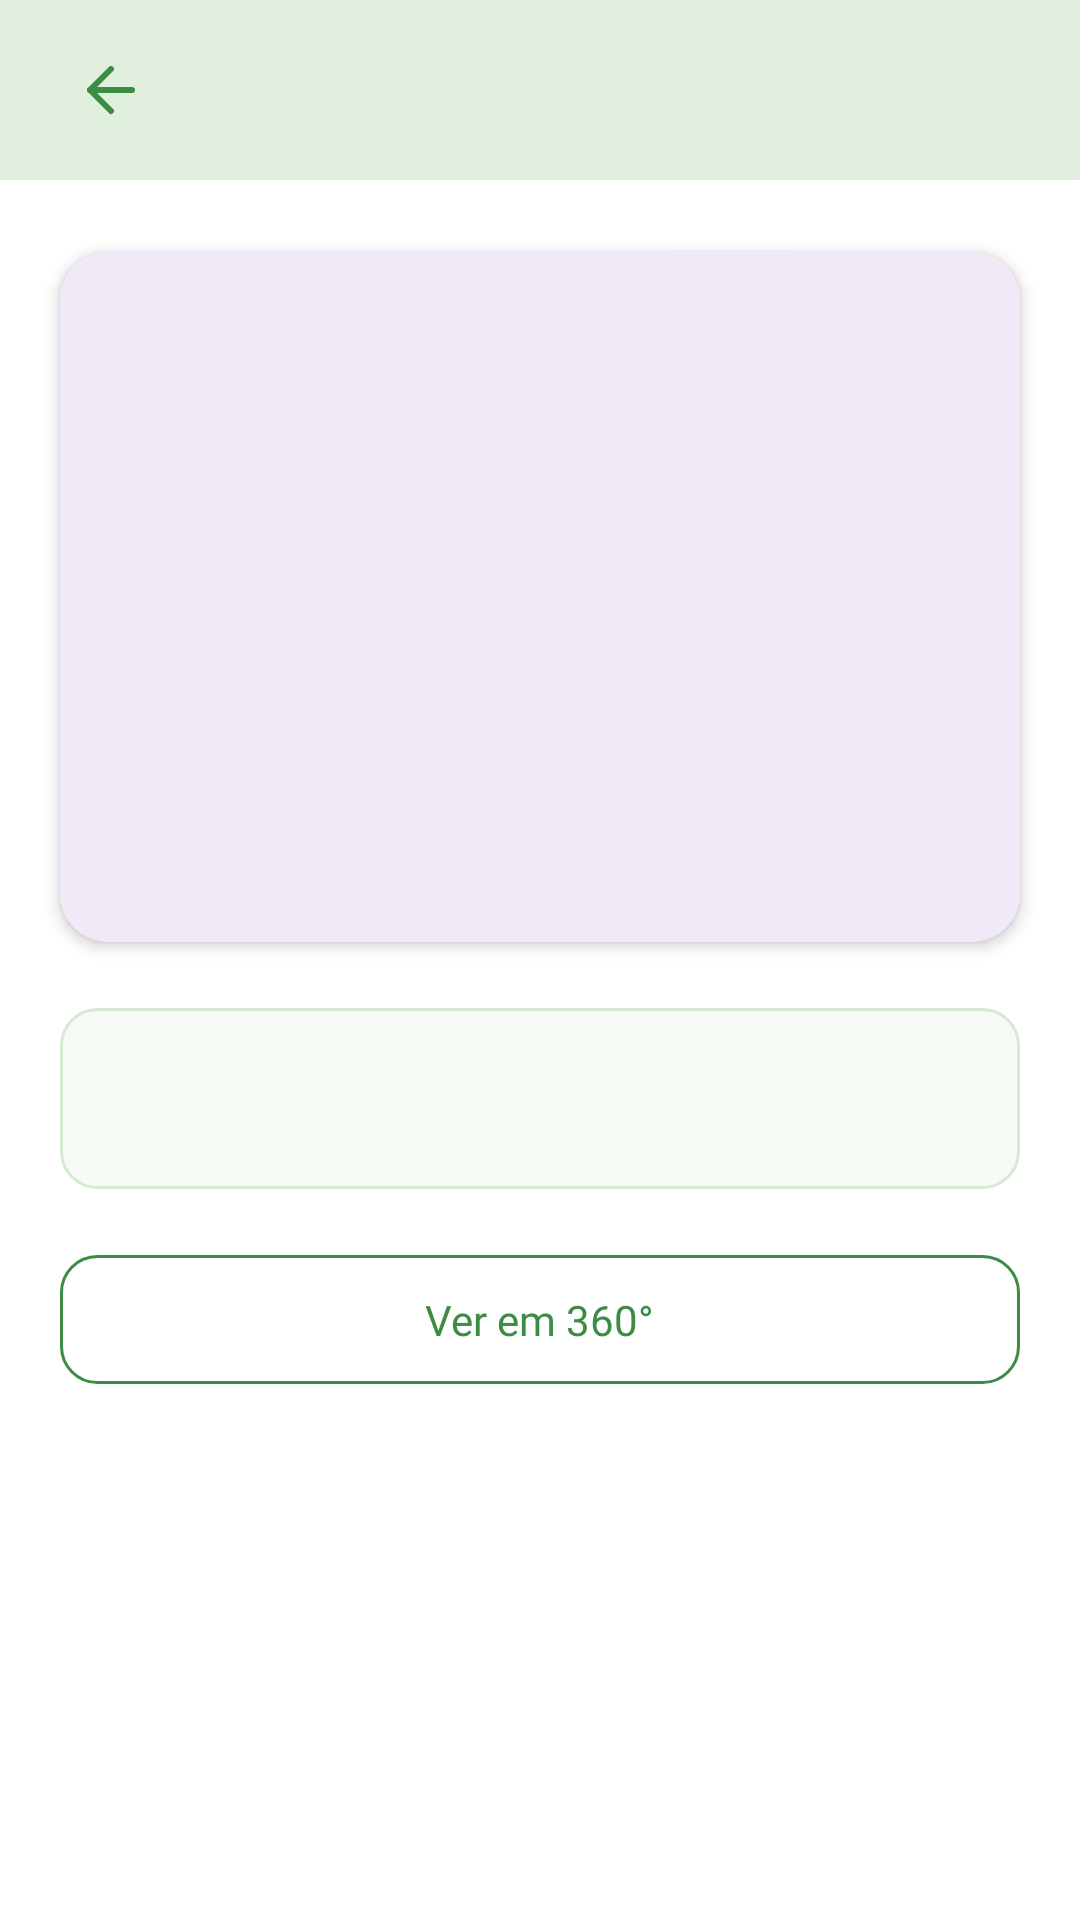

Point at icon controls on the screen. Image size 1080×1920, points as (x=x, y=y).
Botão de voltar: (x=111, y=90)
